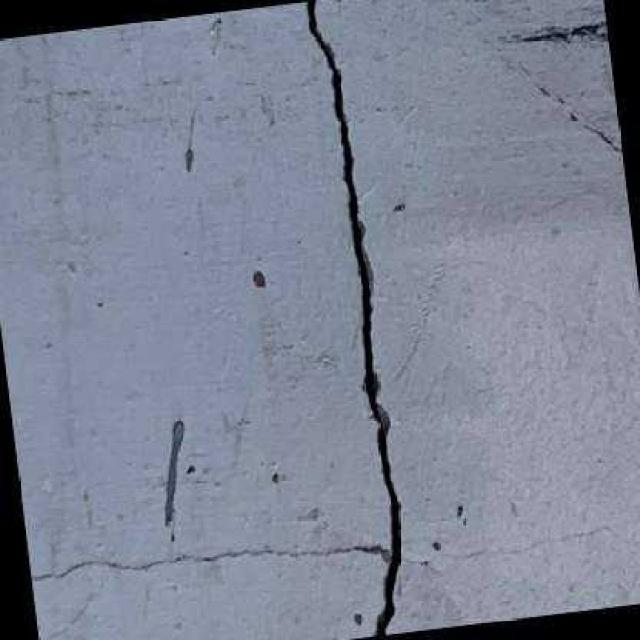D00: (304, 0, 403, 636)
